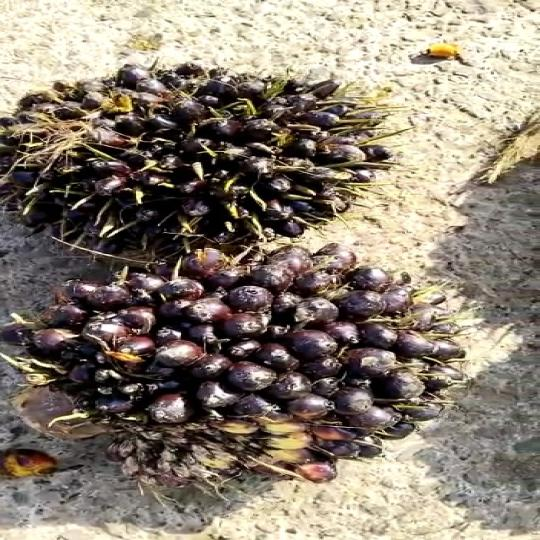mentah: (0, 245, 482, 496), (0, 63, 395, 270)
